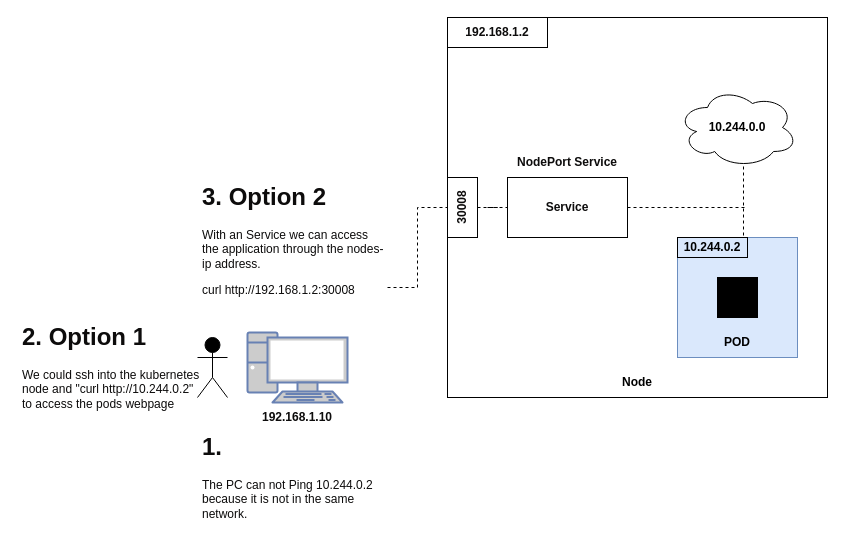
This 845x540 diagram has some shape labels left out. The shapes that lost their labels are listed below. From the top down, each one's centre as x and y in pixels, then its label:
At pixel 737 297: "App".
At pixel 212 367: "Actor".
